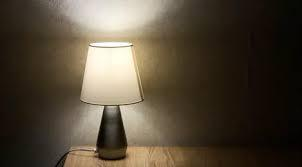Lamp: (75, 38, 151, 164)
